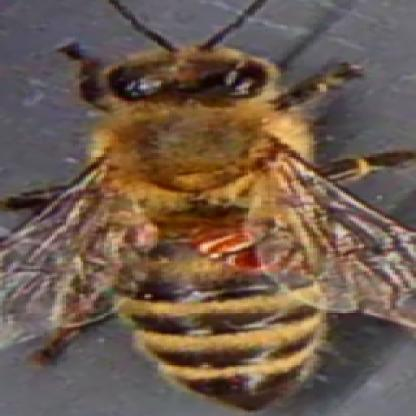bee: (85, 32, 336, 404)
vaoora: (196, 232, 254, 247), (233, 253, 279, 269)
